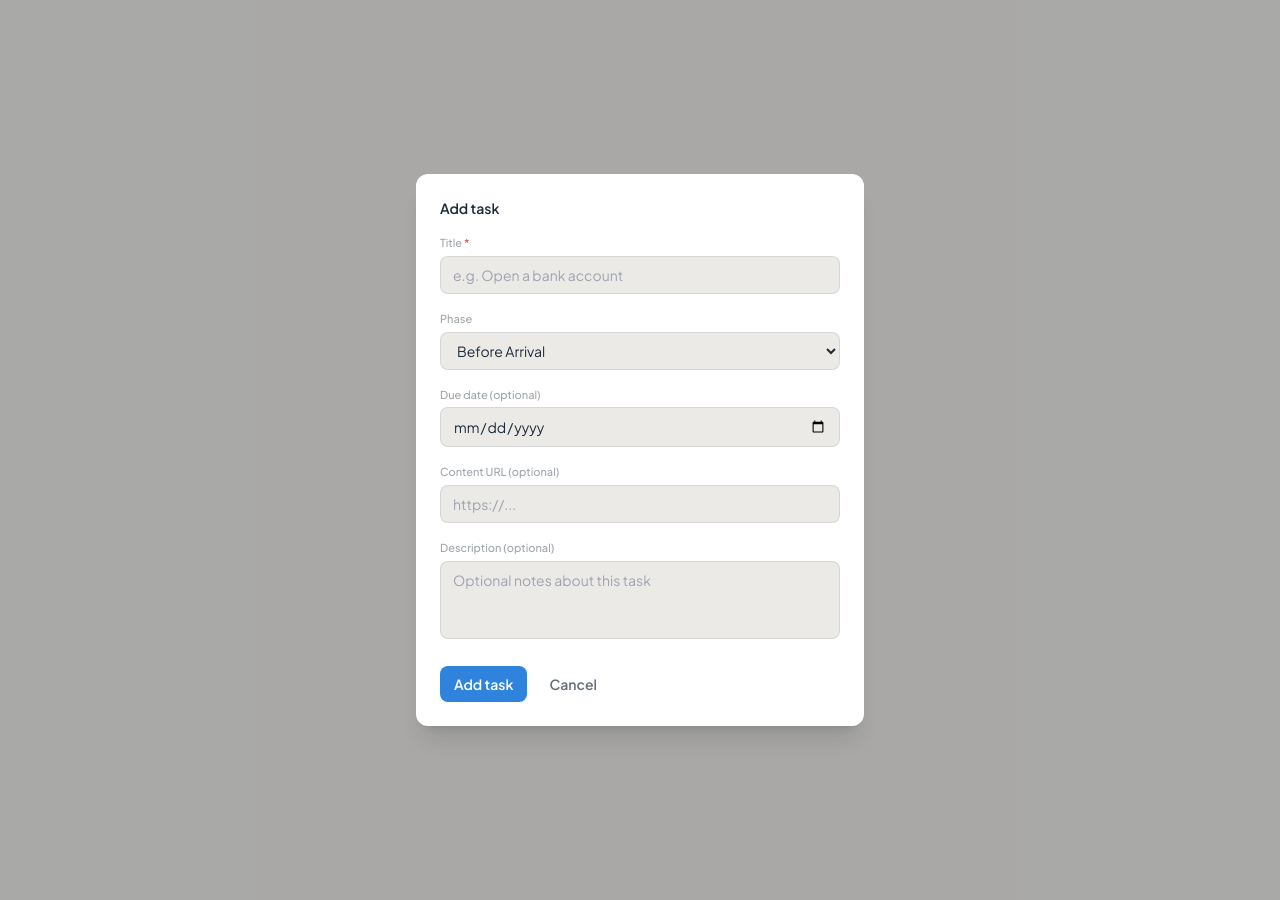
Test: PlanTaskAddModal › shows an error message when adminAddPlanTask fails
The image size is (1280, 900).
Type "New task" into the field labelled "Title *" at [640, 275], box [440,256,840,294]
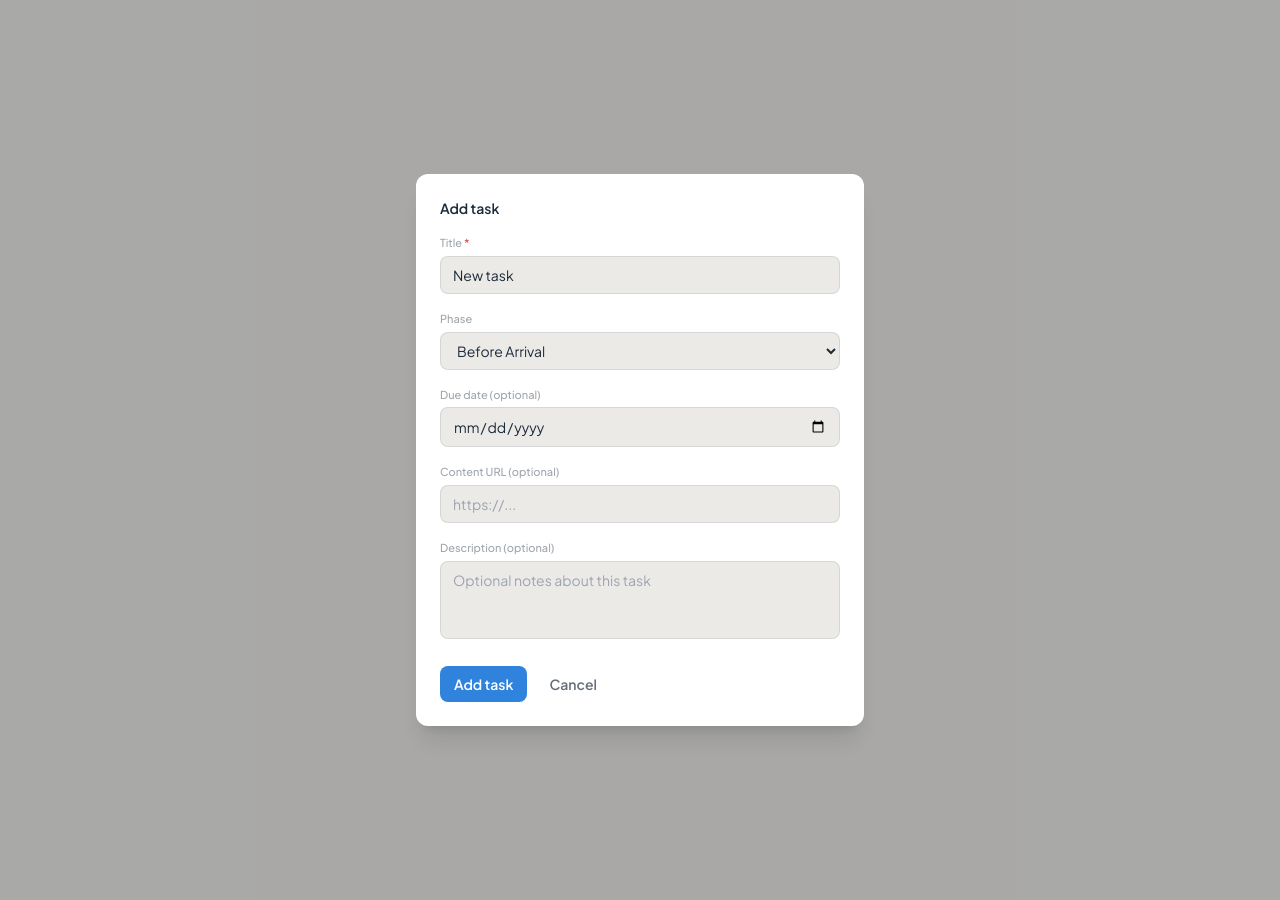
Click the button "Add task" at [484, 684], box [440,666,527,702]
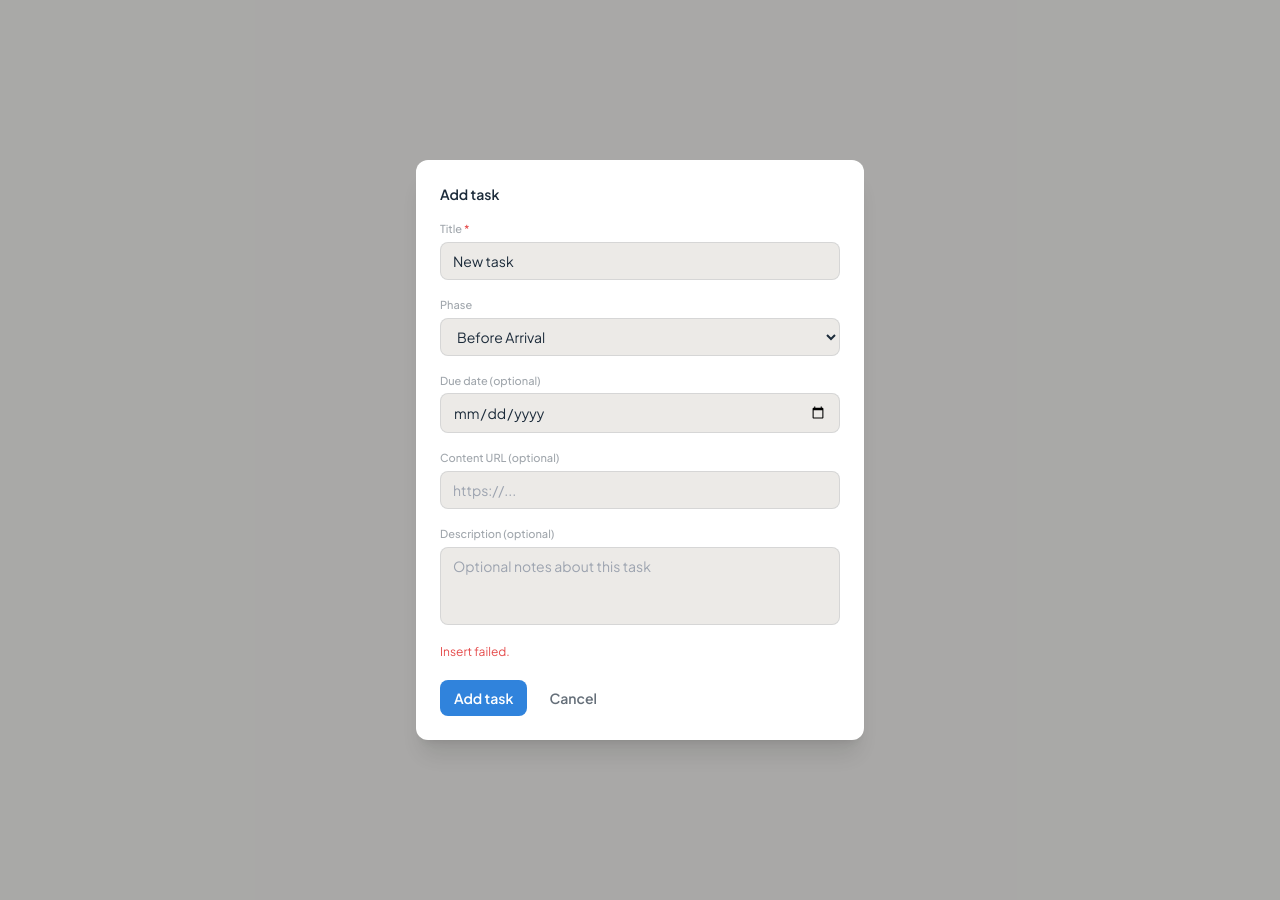
Result: the text "Insert failed." is shown at [440,644,510,659]
